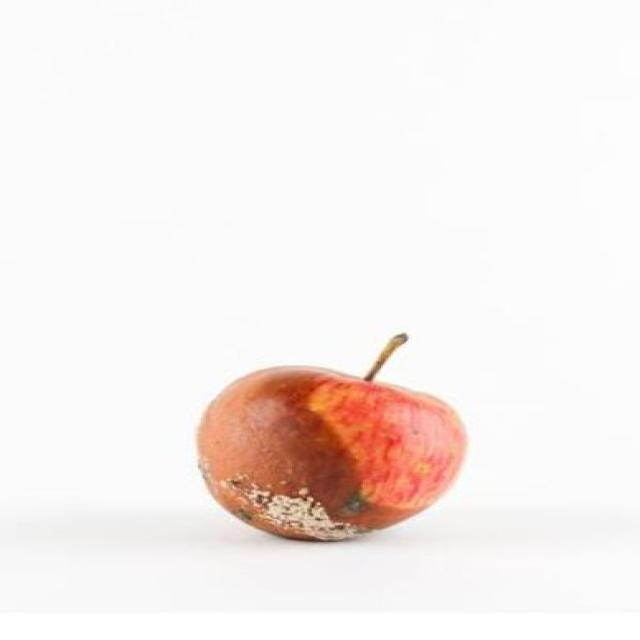Rotten Apple: (170, 326, 504, 548)
